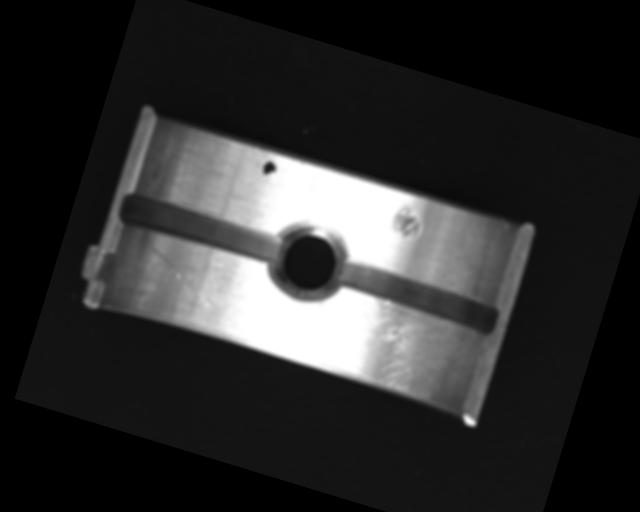blot: (259, 158, 280, 183)
bruise: (389, 200, 426, 242)
gap: (330, 255, 503, 339), (116, 188, 282, 267)
hole: (262, 212, 354, 308)
nick: (136, 244, 223, 309)
scratch: (311, 283, 479, 410)
